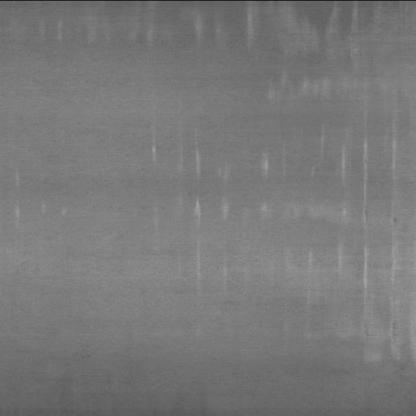waist_folding: (42, 2, 404, 325)
